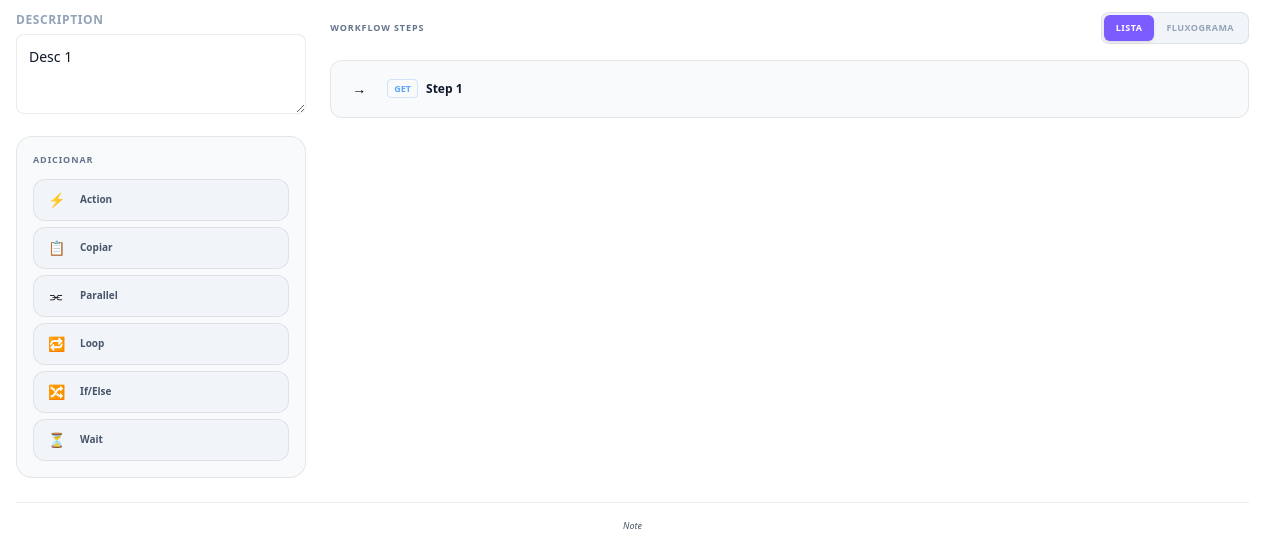
it: WorkflowEditorView › should add a condition step
The image size is (1266, 546).
Click the text "If/Else" at (96, 392), box 80,384 -> 111,399
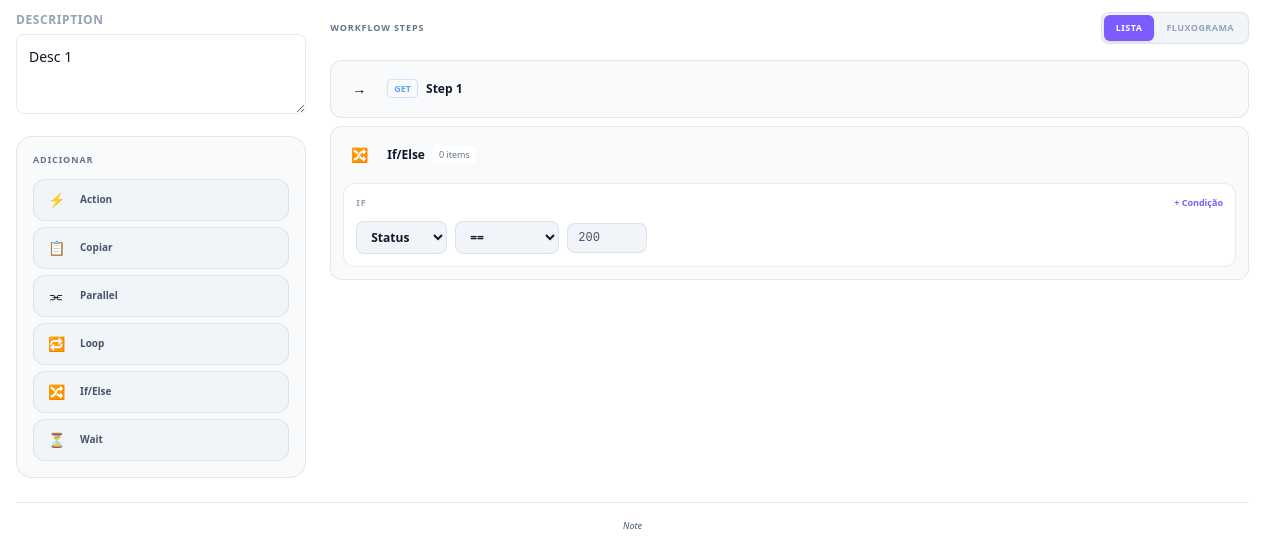
Expected: the text "If" is shown, 356,196 -> 367,209
